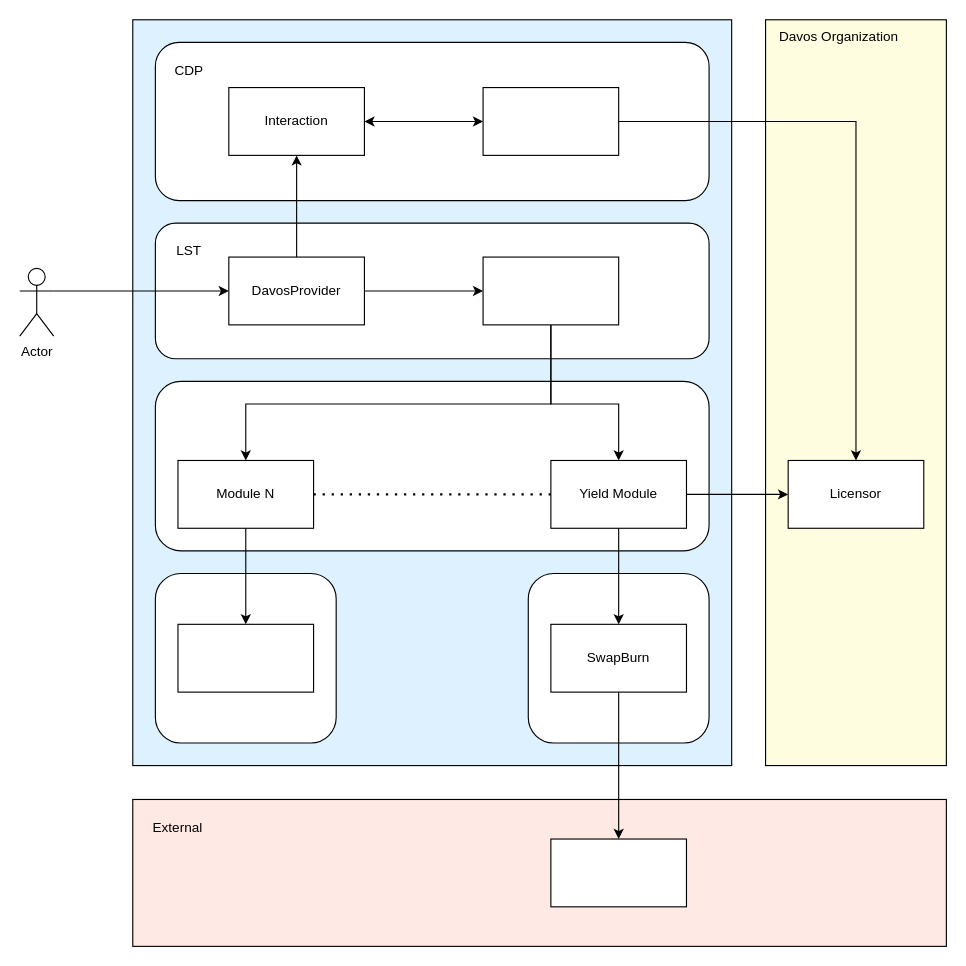
Some shapes in this 966 by 966 pixel diagram are drawn without their labels. The shapes that lost their labels are listed below. From the top down, each one's centre as x and y in pixels, then its label:
At point 550,120: "Jug".
At point 550,290: "MasterVault".
At point 245,657: "Plugin N".
At point 618,872: "Dex".
